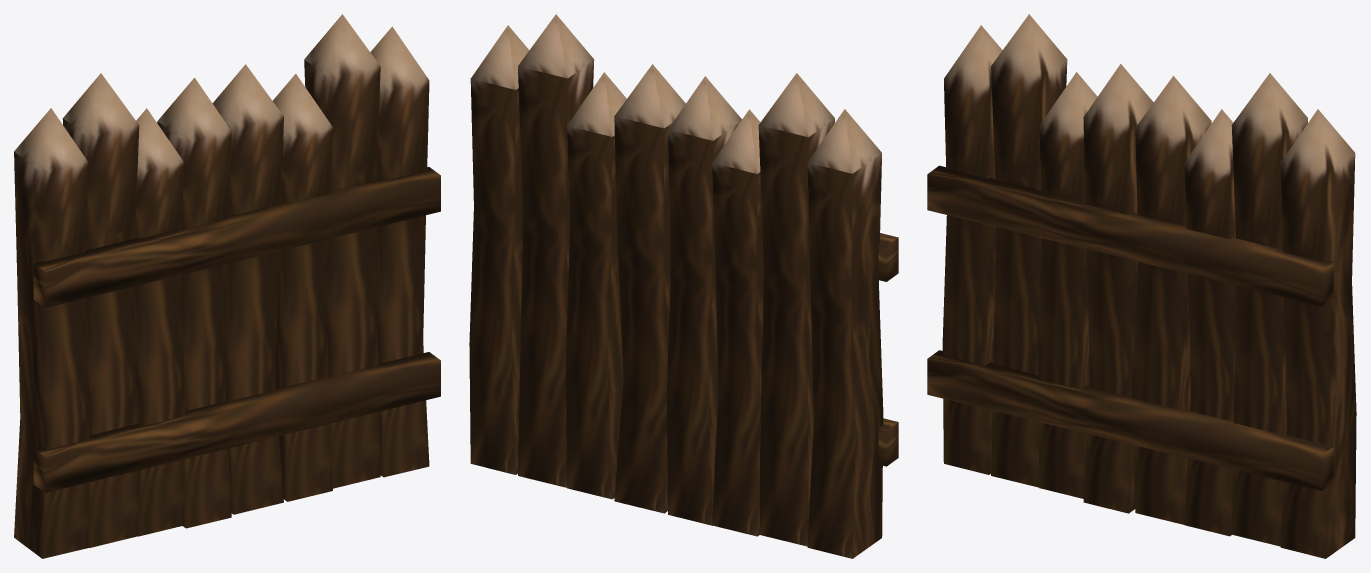
File: Muro.fbx
The picture shows the model from 3 angles, left to right: view 1: azimuth 30°, elevation 25°; view 2: azimuth 150°, elevation 25°; view 3: azimuth 330°, elevation 25°; orthographic projection.
Visible parts, largest first — view 1: Cerca; view 2: Cerca; view 3: Cerca.
Boxes of the visible parts, x1,y1,x2,y2 form: Cerca: (14, 14, 440, 558); Cerca: (469, 14, 898, 558); Cerca: (927, 14, 1356, 558).
Bounding box in the file's own units: 288 × 321 × 50.
